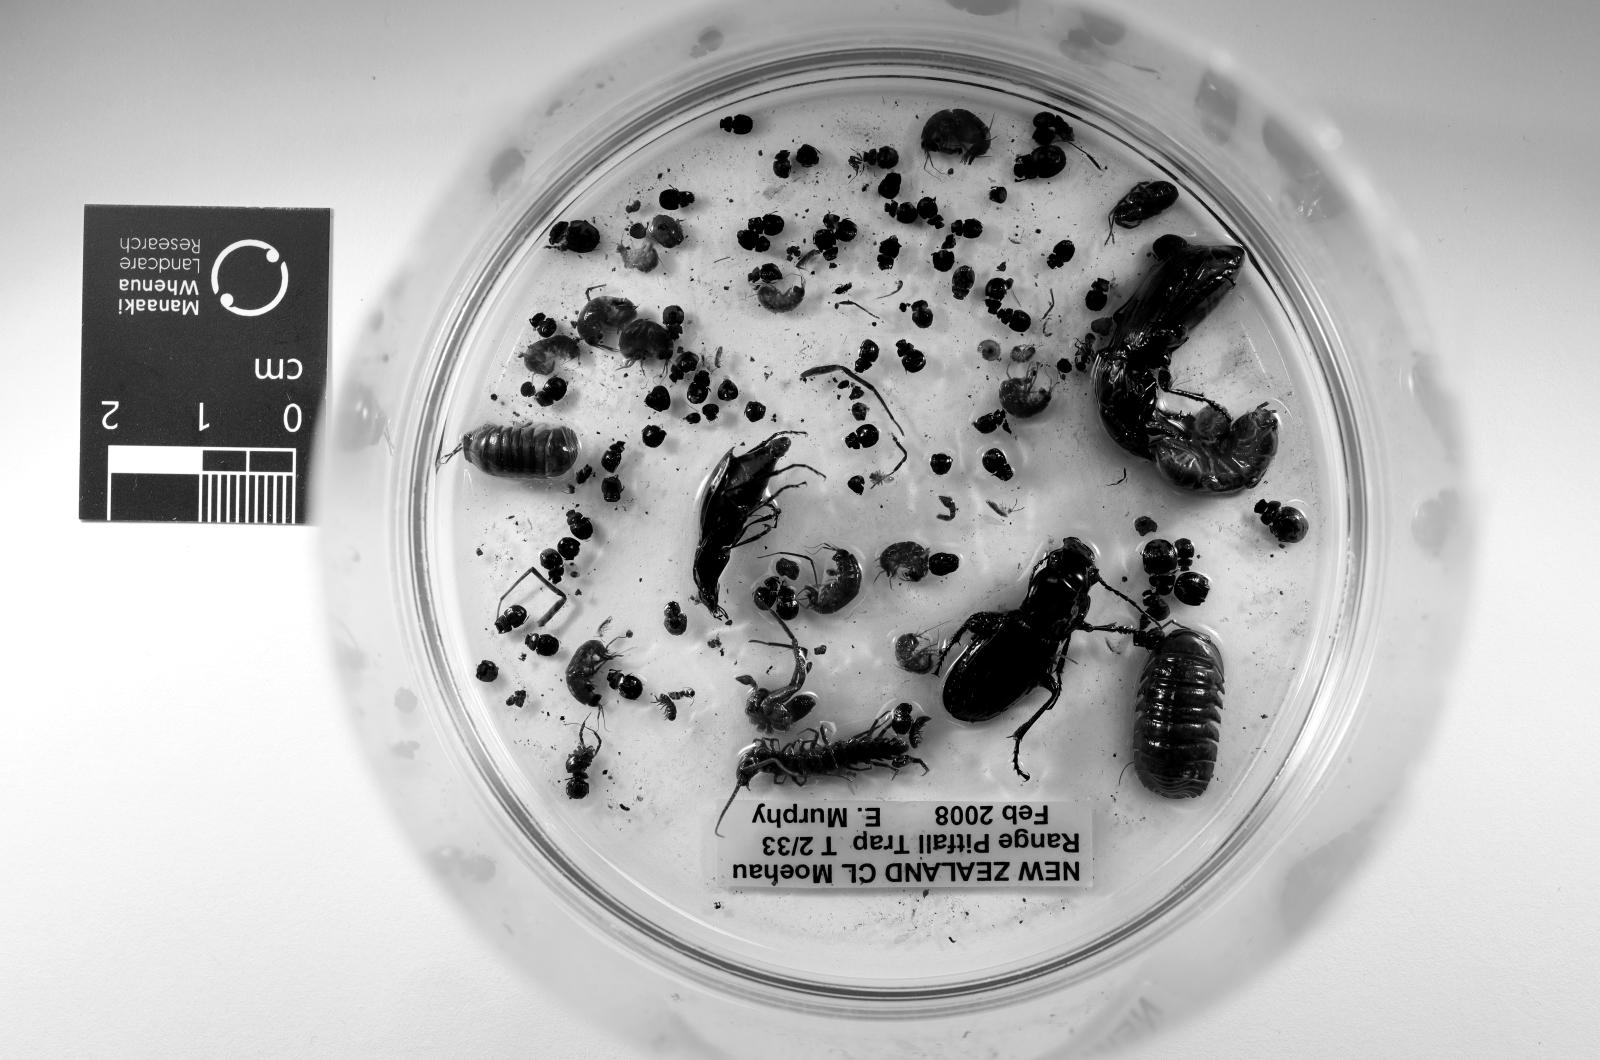amphipoda: (807, 547, 862, 615), (922, 109, 991, 164), (565, 640, 618, 707), (575, 292, 634, 344), (1000, 369, 1054, 419), (522, 332, 582, 376), (618, 319, 672, 363), (879, 541, 928, 581), (894, 634, 938, 674), (757, 283, 807, 314), (616, 243, 660, 273), (1010, 344, 1037, 363)
araneae: (738, 621, 816, 733), (1109, 180, 1178, 239), (565, 724, 600, 801)
carabidae: (938, 537, 1132, 776), (1090, 237, 1244, 459), (694, 432, 803, 625)
chilopoda: (728, 711, 928, 804)
coleoptera: (1254, 500, 1309, 547), (1141, 541, 1178, 596), (1012, 146, 1065, 180), (550, 220, 600, 254), (984, 277, 1012, 318), (607, 671, 643, 702), (896, 338, 925, 373), (822, 214, 856, 243), (982, 451, 1012, 481), (669, 351, 700, 382), (538, 376, 569, 407), (950, 264, 974, 302), (775, 584, 799, 621), (565, 509, 594, 541), (847, 422, 879, 451), (915, 195, 944, 227), (972, 409, 1006, 435), (662, 602, 687, 636), (540, 550, 565, 584), (753, 577, 778, 612), (997, 308, 1031, 332), (885, 199, 919, 224), (862, 146, 900, 168), (747, 214, 784, 237), (497, 606, 525, 634), (1047, 239, 1075, 267), (600, 441, 626, 472), (856, 338, 879, 373), (738, 230, 772, 252), (662, 304, 685, 338), (687, 369, 710, 403), (928, 552, 959, 577), (1084, 279, 1109, 310), (812, 230, 837, 260), (525, 634, 559, 655), (950, 218, 984, 239), (660, 189, 694, 211), (879, 237, 900, 270), (747, 264, 784, 283), (909, 302, 934, 329), (529, 314, 556, 338), (719, 115, 753, 134), (1175, 537, 1193, 568), (772, 149, 791, 177)
diptera: (835, 283, 853, 295)
formicidae: (1075, 336, 1094, 373), (669, 690, 697, 702)
gastropoda: (978, 338, 1000, 360)
isopoda: (1134, 627, 1225, 799), (1153, 407, 1278, 497), (462, 422, 582, 481), (656, 692, 678, 720)
